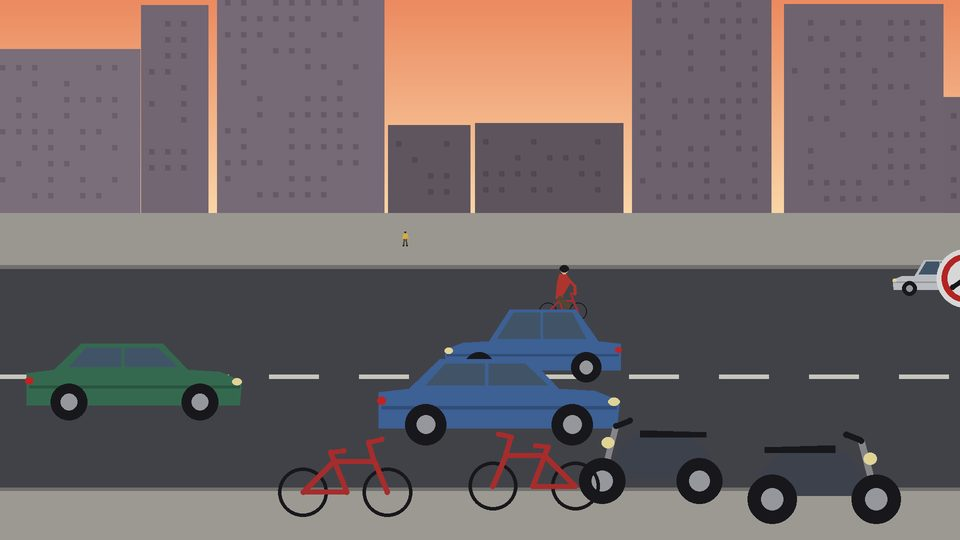Bicycle: (278, 437, 412, 517), (469, 432, 600, 511)
Car: (379, 359, 620, 446), (27, 344, 242, 421), (445, 310, 621, 383), (893, 260, 943, 296)
Cyclist: (540, 265, 587, 319)
Motorcycle: (748, 432, 901, 524), (587, 418, 723, 504)
Sign: (937, 250, 960, 307)
